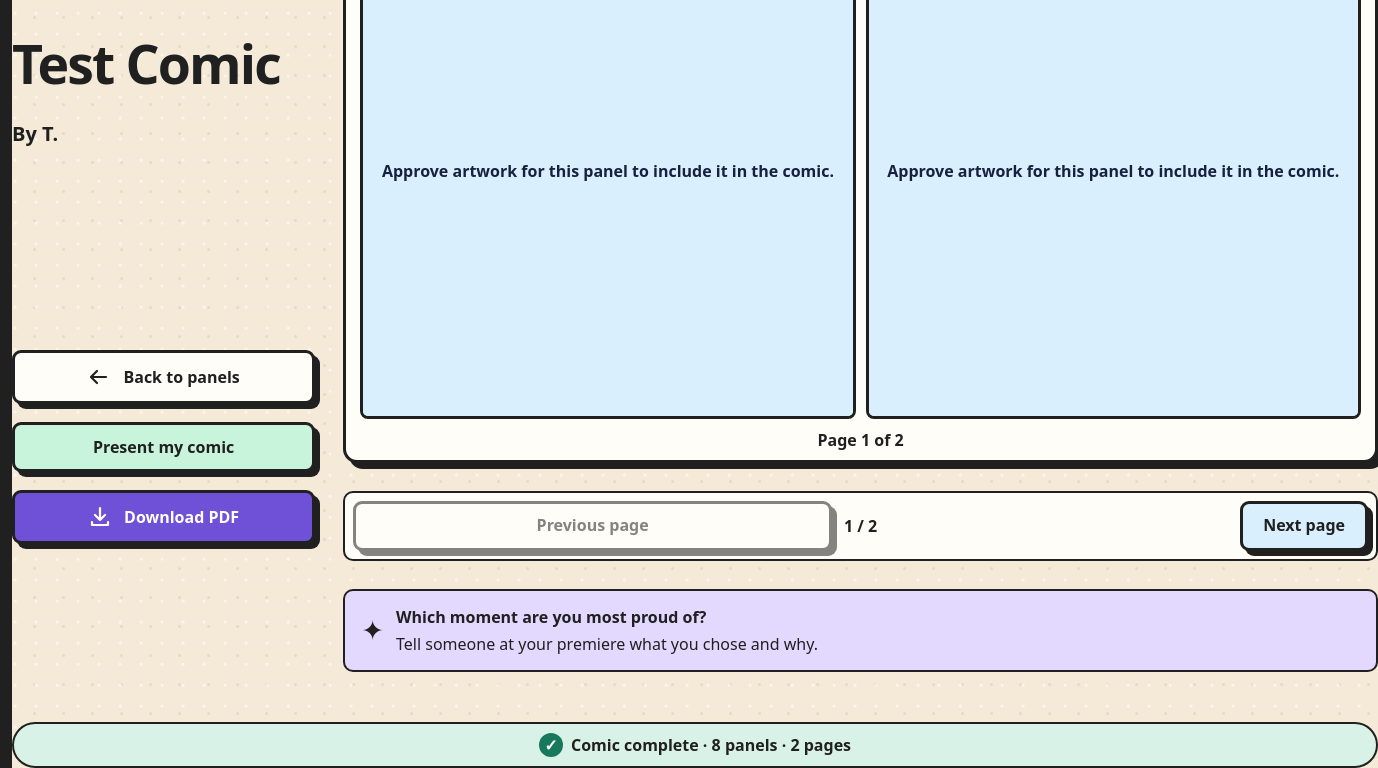
Test: ComicPreview › shows one numbered page at a time and navigates to panels five through eight
(page scrolled)
Check: the text "Page 1 of 2" is shown, box 818,428 -> 904,450
Click the button "Next page" at (1304, 526), box 1240,500 -> 1368,550
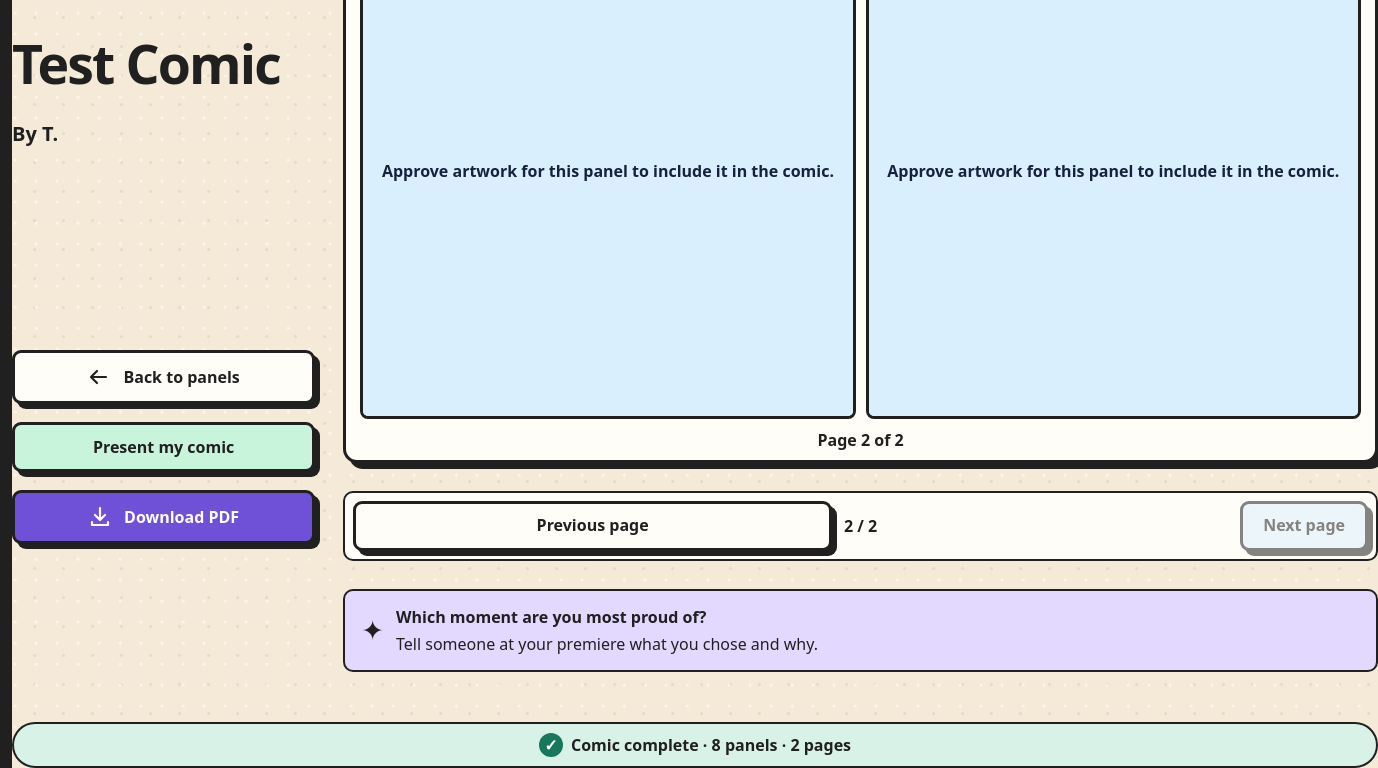
Check: the text "Page 2 of 2" is shown, box 818,428 -> 904,450
Check: the button "Next page" is disabled, box 1240,500 -> 1368,550
